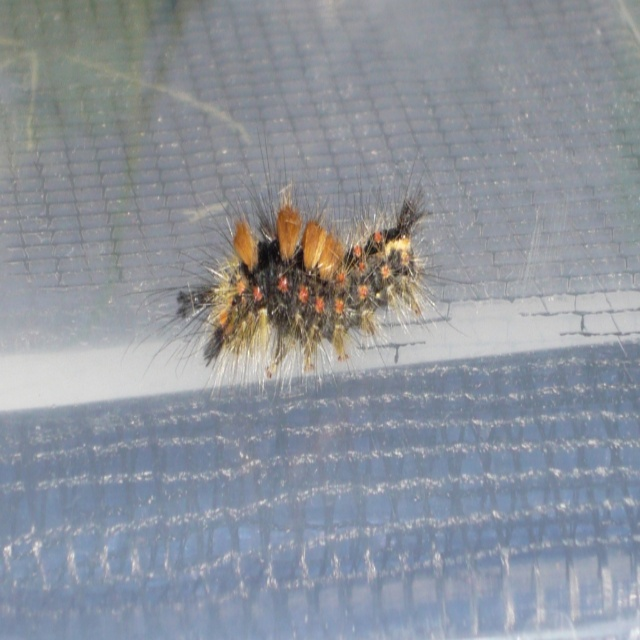Caterpillar: (140, 99, 476, 418)
